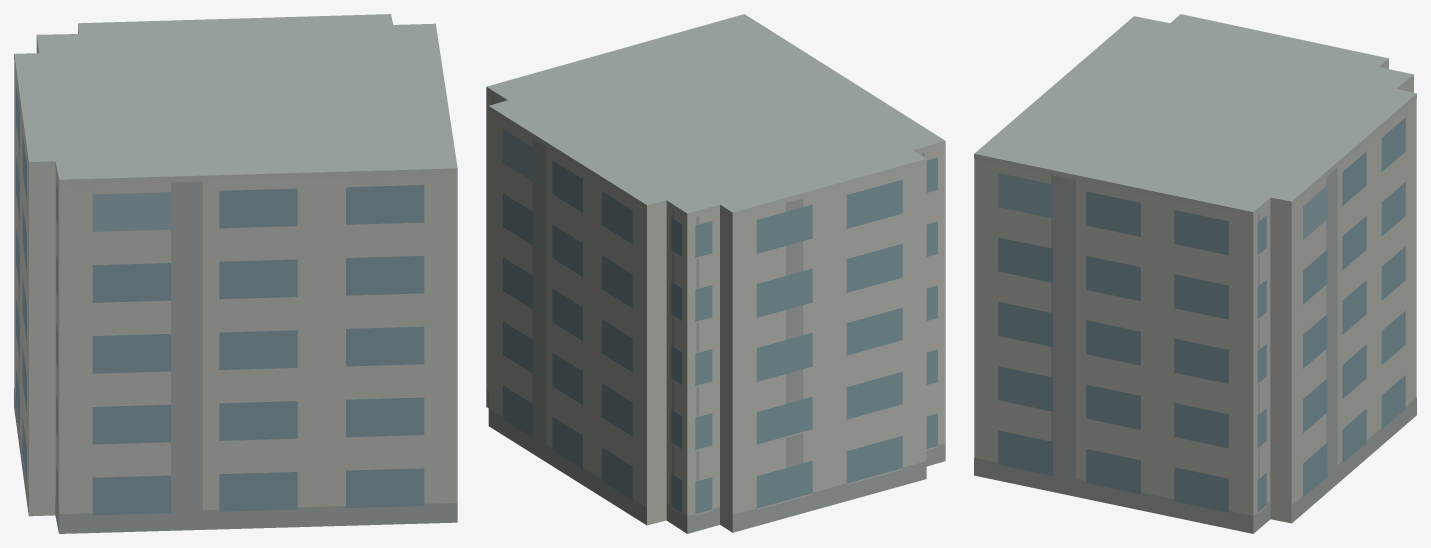
Rendered from survey-upis-33003013.glb.
3 renders of one model, left to right at view 1: azimuth 30°, elevation 25°; view 2: azimuth 150°, elevation 25°; view 3: azimuth 270°, elevation 25°, orthographic. The views are drawn at different scales.
Visible parts, largest first — view 1: survey-upis-33003013.tmp; view 2: survey-upis-33003013.tmp; view 3: survey-upis-33003013.tmp.
Boxes of the visible parts, x1,y1,x2,y2 form: survey-upis-33003013.tmp: [14, 14, 457, 533]; survey-upis-33003013.tmp: [486, 14, 945, 533]; survey-upis-33003013.tmp: [974, 14, 1416, 533].
Size of the model in its own units: 19.49 by 14.75 by 18.4.
